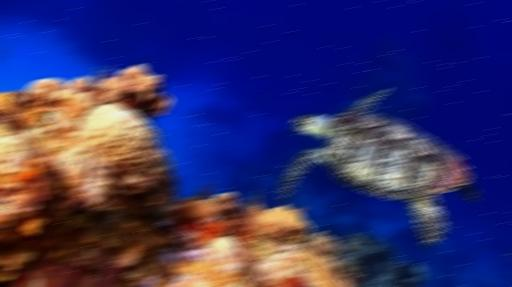Fish: (279, 88, 479, 246)
